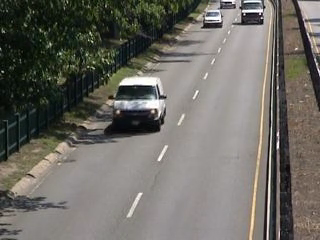car: (204, 9, 223, 29), (218, 1, 238, 11)
truck: (109, 75, 170, 133), (240, 1, 266, 27)
